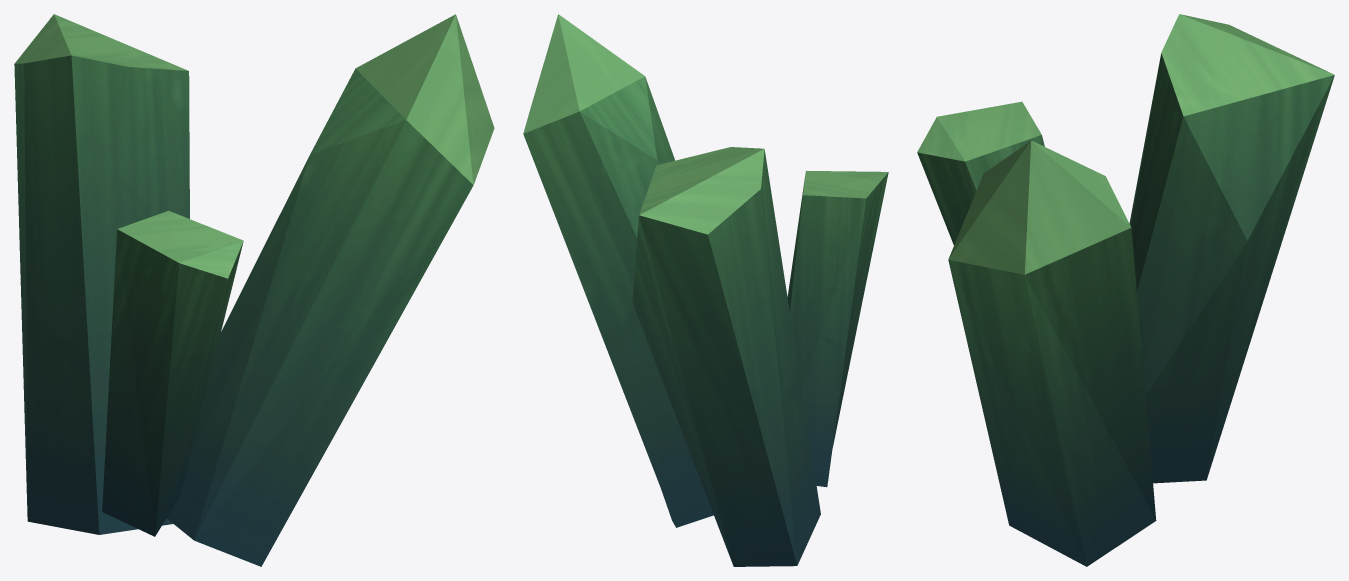
File: Crystal1.fbx
The picture shows the model from 3 angles, left to right: view 1: azimuth 30°, elevation 25°; view 2: azimuth 150°, elevation 25°; view 3: azimuth 270°, elevation 25°; orthographic projection. The views are drawn at different scales.
Parts seen in each view (by area): view 1: polySurface24; view 2: polySurface24; view 3: polySurface24.
Boxes of the visible parts, x1,y1,x2,y2 form: polySurface24: (14,14,494,566); polySurface24: (523,14,888,566); polySurface24: (917,14,1334,566).
Bounding box in the file's own units: 0.6075 × 0.7745 × 0.5848.
1 material, 1 textured.
